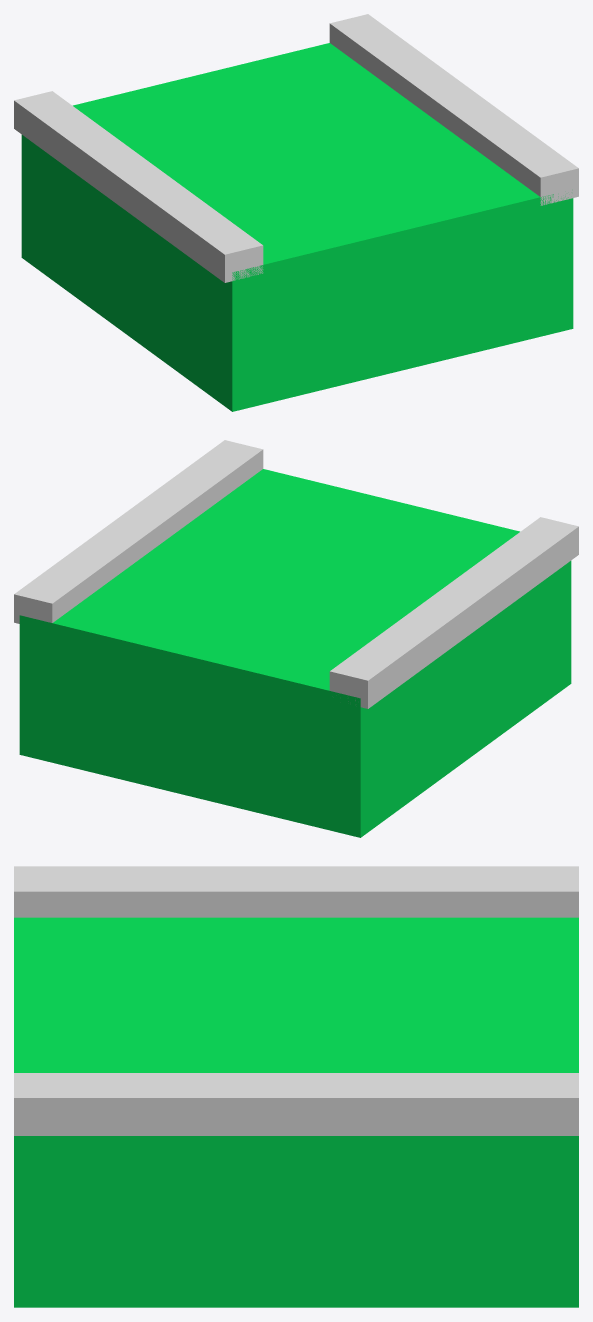
The model's file is course.fbx.
3 views of the same model, one above another, from view 1: azimuth 30°, elevation 25°; view 2: azimuth 150°, elevation 25°; view 3: azimuth 270°, elevation 25° (orthographic). The views are drawn at different scales.
Parts seen in each view (by area): view 1: Ground, Rantl, Rantl.001; view 2: Ground, Rantl, Rantl.001; view 3: Ground, Rantl.001, Rantl.
Boxes of the visible parts, bbox=[...] form: Ground: bbox=[21, 43, 573, 411]; Rantl: bbox=[14, 91, 263, 282]; Rantl.001: bbox=[329, 14, 578, 205]; Ground: bbox=[19, 469, 571, 837]; Rantl: bbox=[329, 517, 578, 708]; Rantl.001: bbox=[14, 440, 263, 623]; Ground: bbox=[14, 917, 578, 1307]; Rantl.001: bbox=[14, 1073, 578, 1135]; Rantl: bbox=[14, 866, 578, 917].
Bounding box in the file's own units: 608 × 261 × 627.
